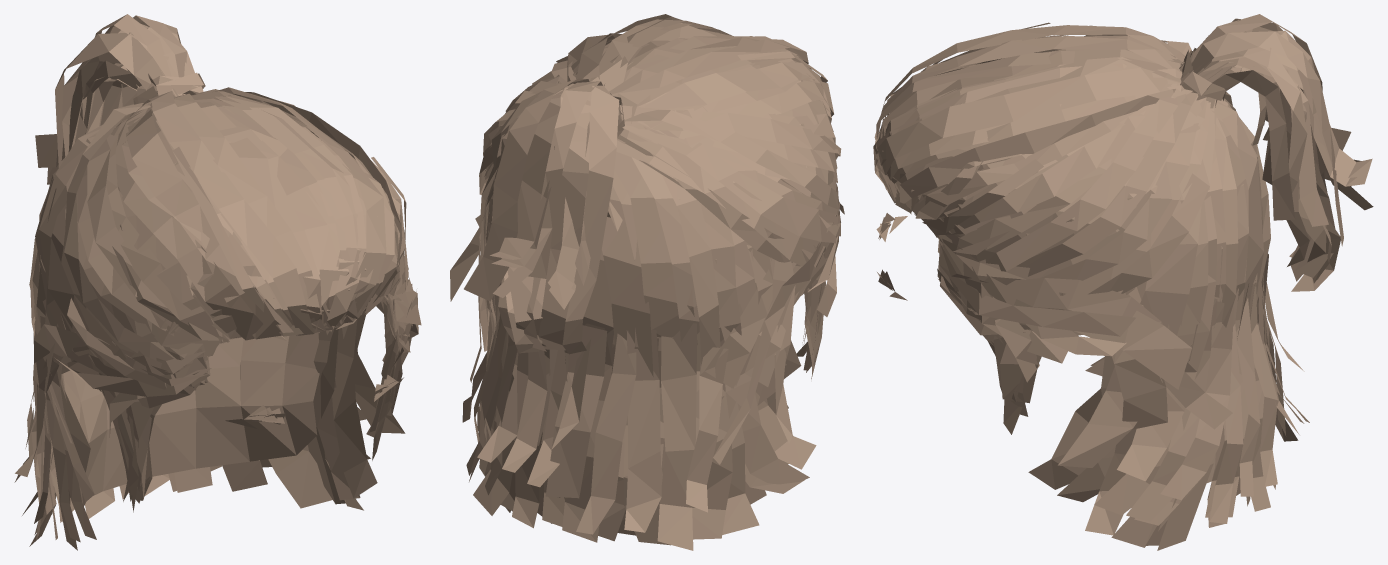
The model's file is male_hair_08_lod1.glb.
The picture shows the model from 3 angles, left to right: view 1: azimuth 30°, elevation 25°; view 2: azimuth 150°, elevation 25°; view 3: azimuth 270°, elevation 25°; orthographic projection. The views are drawn at different scales.
Visible parts, largest first — view 1: hair_08; view 2: hair_08; view 3: hair_08.
Boxes of the visible parts, x1=… form: hair_08: x1=14, y1=14, x2=421, y2=550; hair_08: x1=450, y1=14, x2=844, y2=550; hair_08: x1=873, y1=14, x2=1373, y2=550.
Size of the model in its own units: 0.1805 by 0.2435 by 0.2363.
